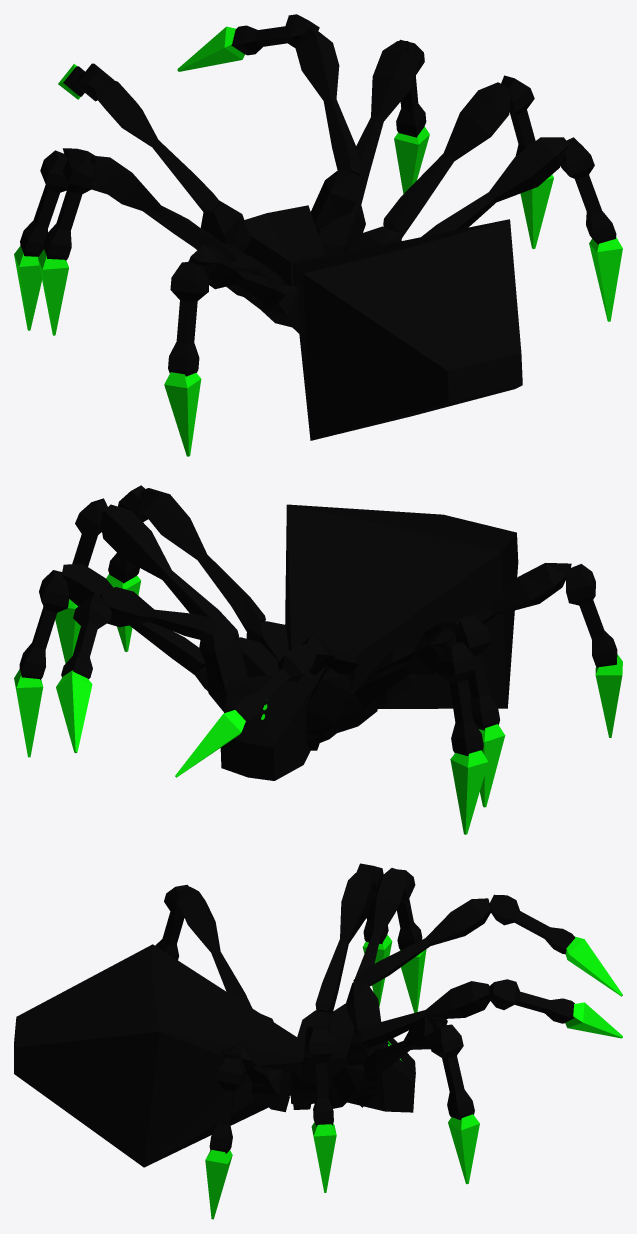
The model's file is spider.obj.
3 renders of one model, top to bottom at view 1: azimuth 30°, elevation 25°; view 2: azimuth 150°, elevation 25°; view 3: azimuth 270°, elevation 25°, orthographic. The views are drawn at different scales.
Visible parts, largest first — view 1: 立方体; view 2: 立方体; view 3: 立方体.
Boxes of the visible parts, box(x1,y1,x2,y2) form: 立方体: box(14, 14, 622, 456); 立方体: box(14, 485, 622, 834); 立方体: box(14, 863, 622, 1219).
Bounding box in the file's own units: 5.84 × 2.49 × 7.37.
Materials: 1 (1 with a texture image).
